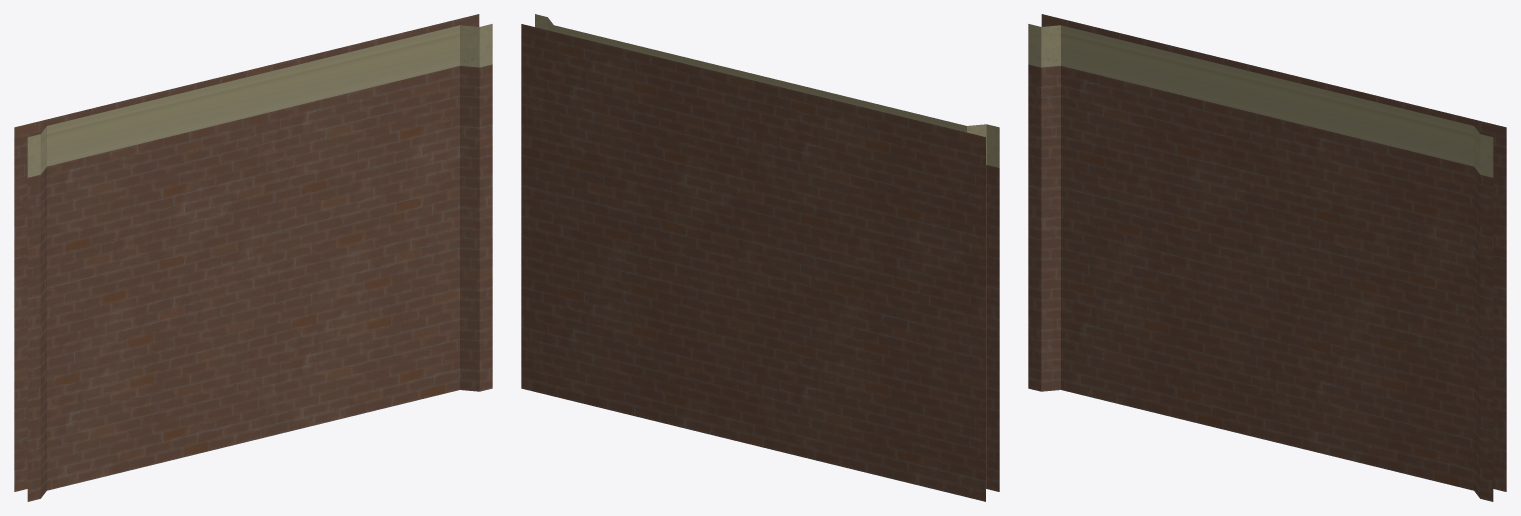
File: Brick_Inset.glb
The picture shows the model from 3 angles, left to right: view 1: azimuth 30°, elevation 25°; view 2: azimuth 150°, elevation 25°; view 3: azimuth 330°, elevation 25°; orthographic projection.
Parts seen in each view (by area): view 1: Brick_Inset; view 2: Brick_Inset; view 3: Brick_Inset.
Boxes of the visible parts, x1,y1,x2,y2 form: Brick_Inset: [14, 14, 492, 501]; Brick_Inset: [521, 14, 999, 501]; Brick_Inset: [1028, 14, 1506, 501].
Bounding box in the file's own units: 4 × 3 × 0.2001.
Materials: 2 (2 with a texture image).
